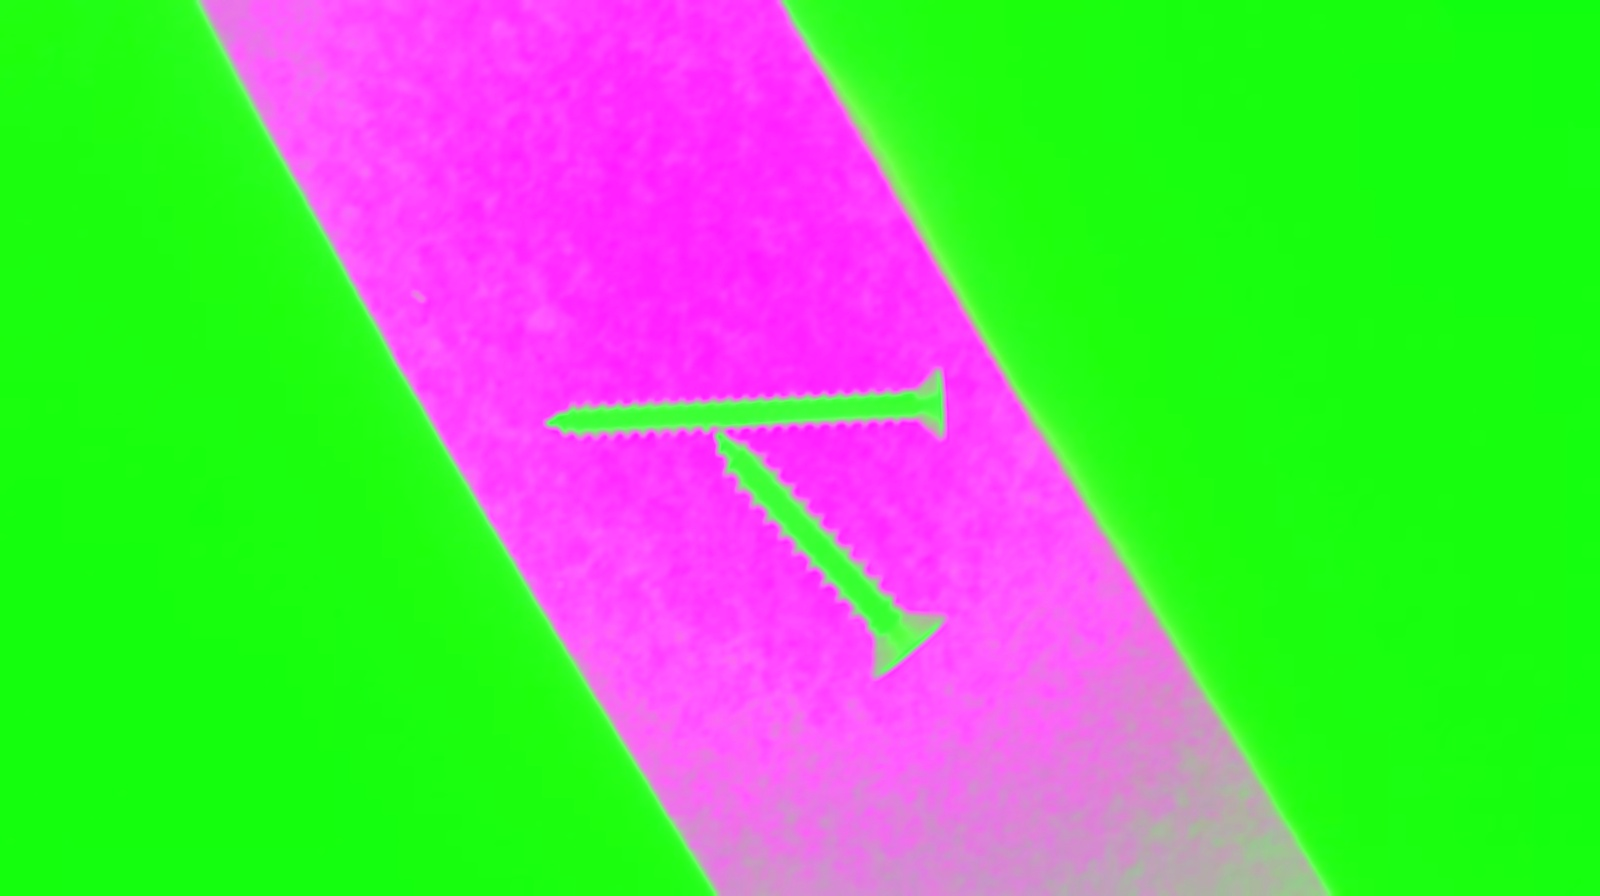S001: (711, 424, 949, 688)
S002: (538, 370, 969, 438)
